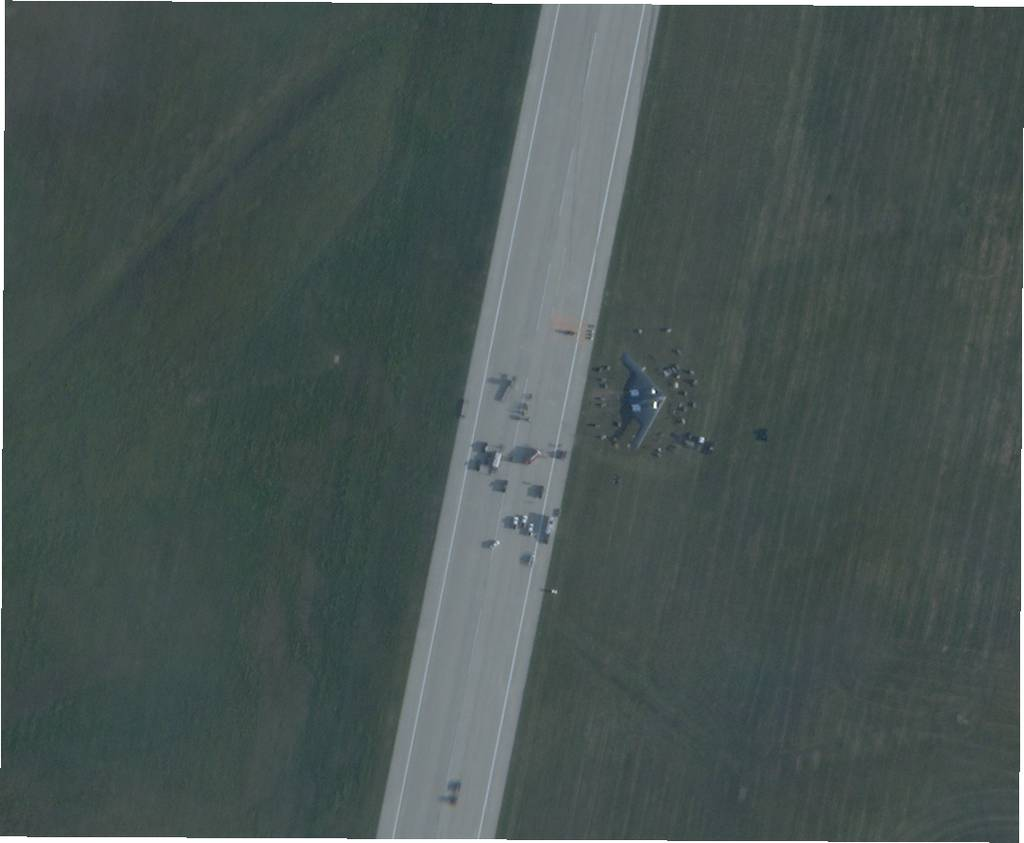B2: (620, 351, 667, 451)
